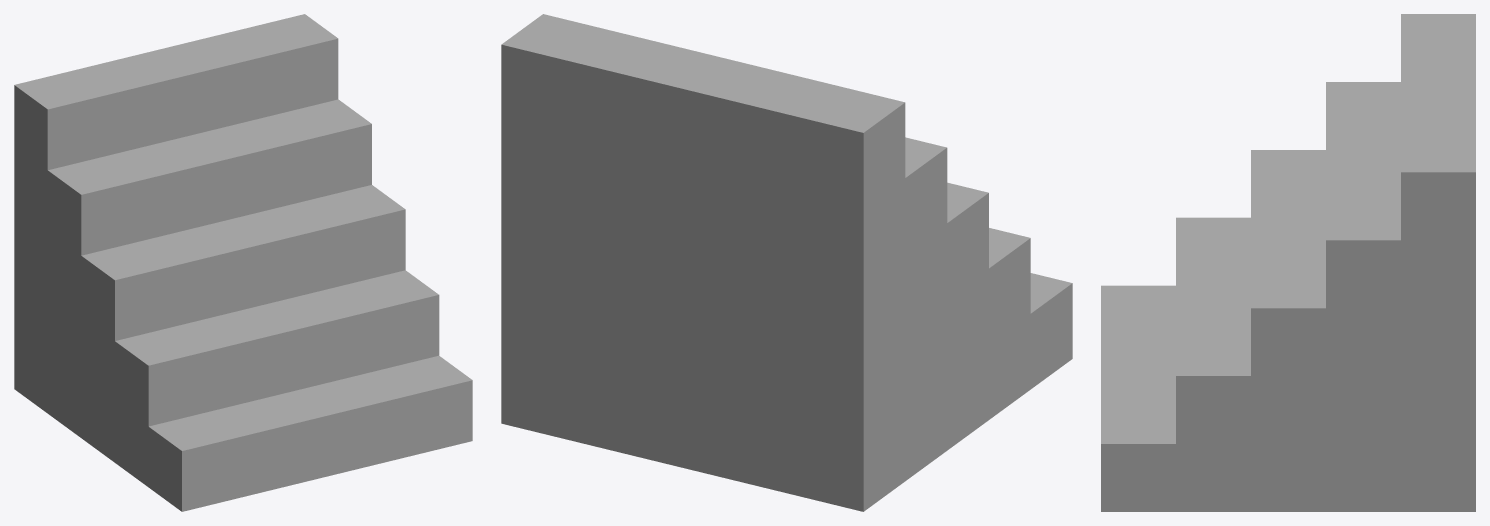
Rendered from path_gray_stair_1.obj.
The picture shows the model from 3 angles, left to right: view 1: azimuth 30°, elevation 25°; view 2: azimuth 150°, elevation 25°; view 3: azimuth 270°, elevation 25°; orthographic projection. The views are drawn at different scales.
Bounding box in the file's own units: 1 × 1 × 1.
Materials: 1 (1 with a texture image).
